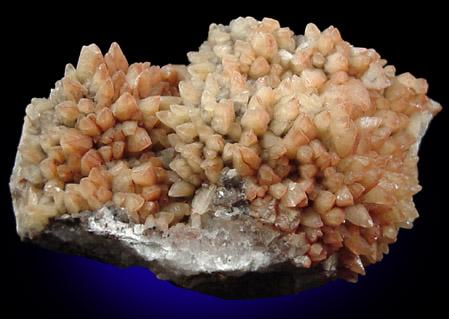calcite: (13, 17, 442, 274)
